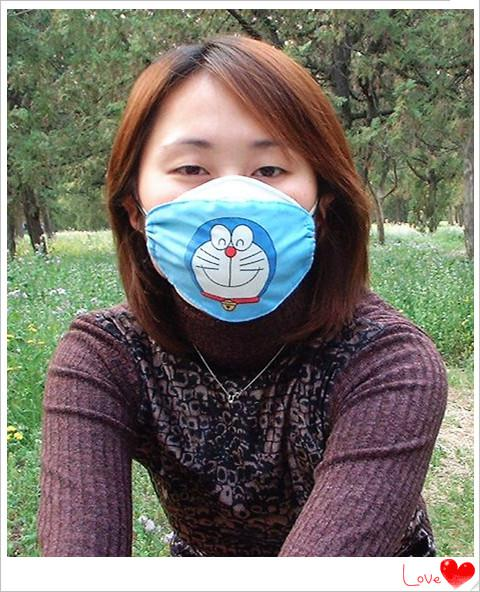OK: (144, 129, 317, 302)
